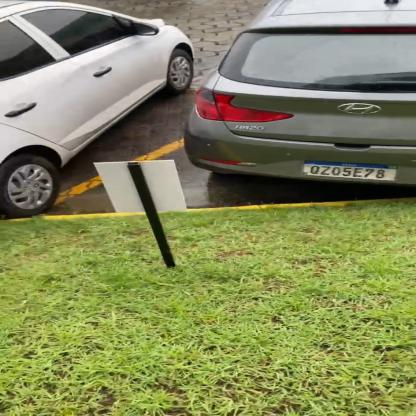Plate: (304, 157, 401, 186)
